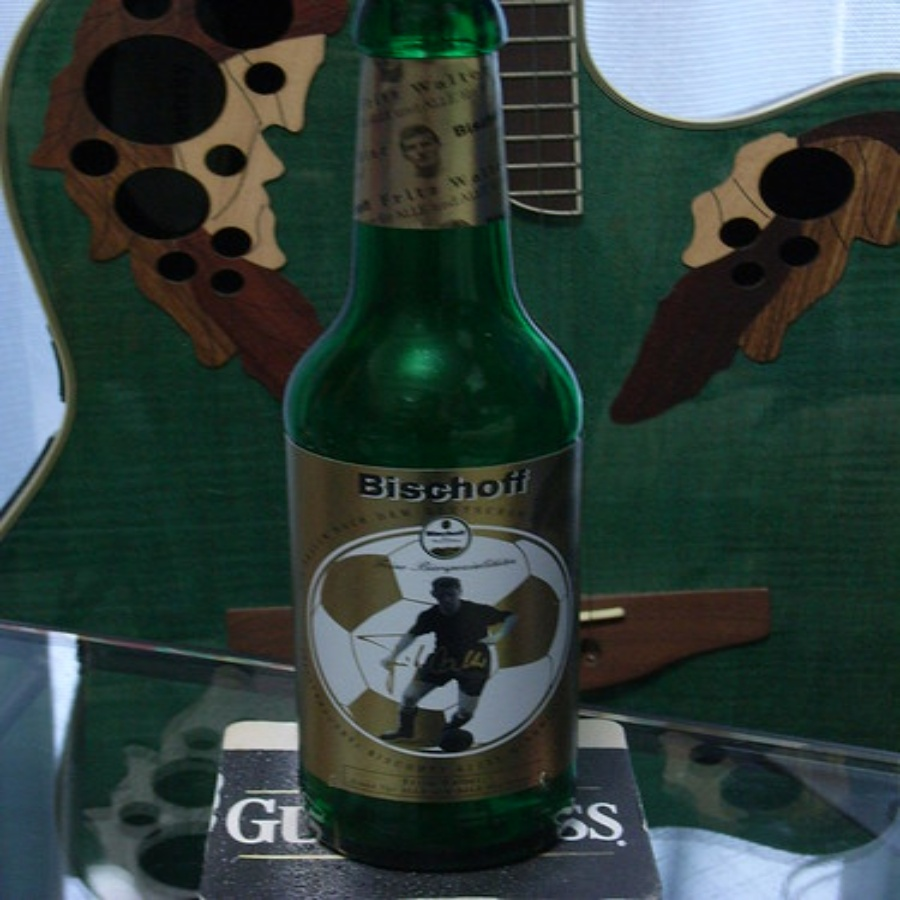beer: (285, 10, 590, 869)
